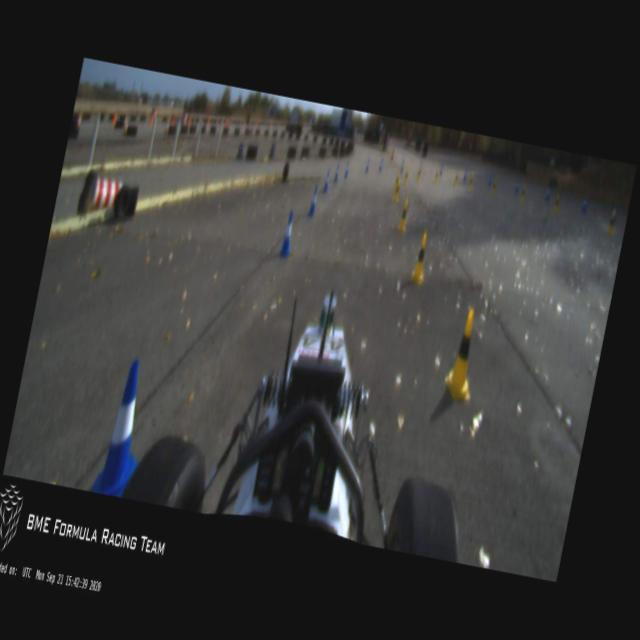blue_cone: (88, 354, 158, 500), (278, 208, 300, 260), (306, 184, 321, 218), (322, 170, 332, 194), (544, 183, 552, 202), (580, 195, 588, 214), (334, 164, 341, 182), (344, 161, 351, 179), (364, 158, 371, 174), (514, 178, 520, 193), (378, 158, 384, 172)
yellow_cone: (442, 306, 488, 403), (410, 230, 432, 286), (397, 196, 412, 234), (606, 210, 619, 237), (392, 178, 402, 205), (552, 194, 561, 214), (490, 176, 498, 198), (393, 170, 401, 192), (467, 172, 475, 193), (520, 184, 528, 204), (453, 170, 461, 188), (403, 168, 410, 185), (416, 166, 422, 184), (434, 168, 439, 184)
